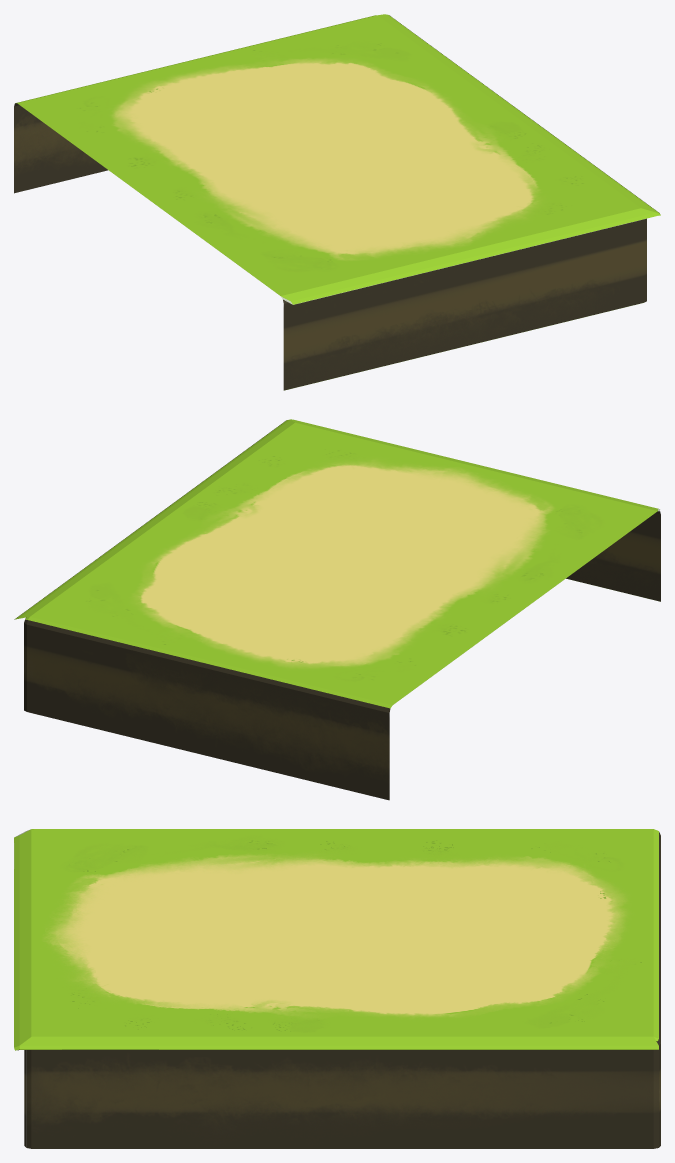
File: env-1.fbx
3 renders of one model, top to bottom at view 1: azimuth 30°, elevation 25°; view 2: azimuth 150°, elevation 25°; view 3: azimuth 270°, elevation 25°, orthographic. The views are drawn at different scales.
Parts seen in each view (by area): view 1: Cube; view 2: Cube; view 3: Cube.
Boxes of the visible parts, left/top/right/bottom form: Cube: left=14, top=14, right=660, bottom=390; Cube: left=14, top=419, right=660, bottom=800; Cube: left=14, top=829, right=660, bottom=1148.
Bounding box in the file's own units: 848 × 200 × 1075.
